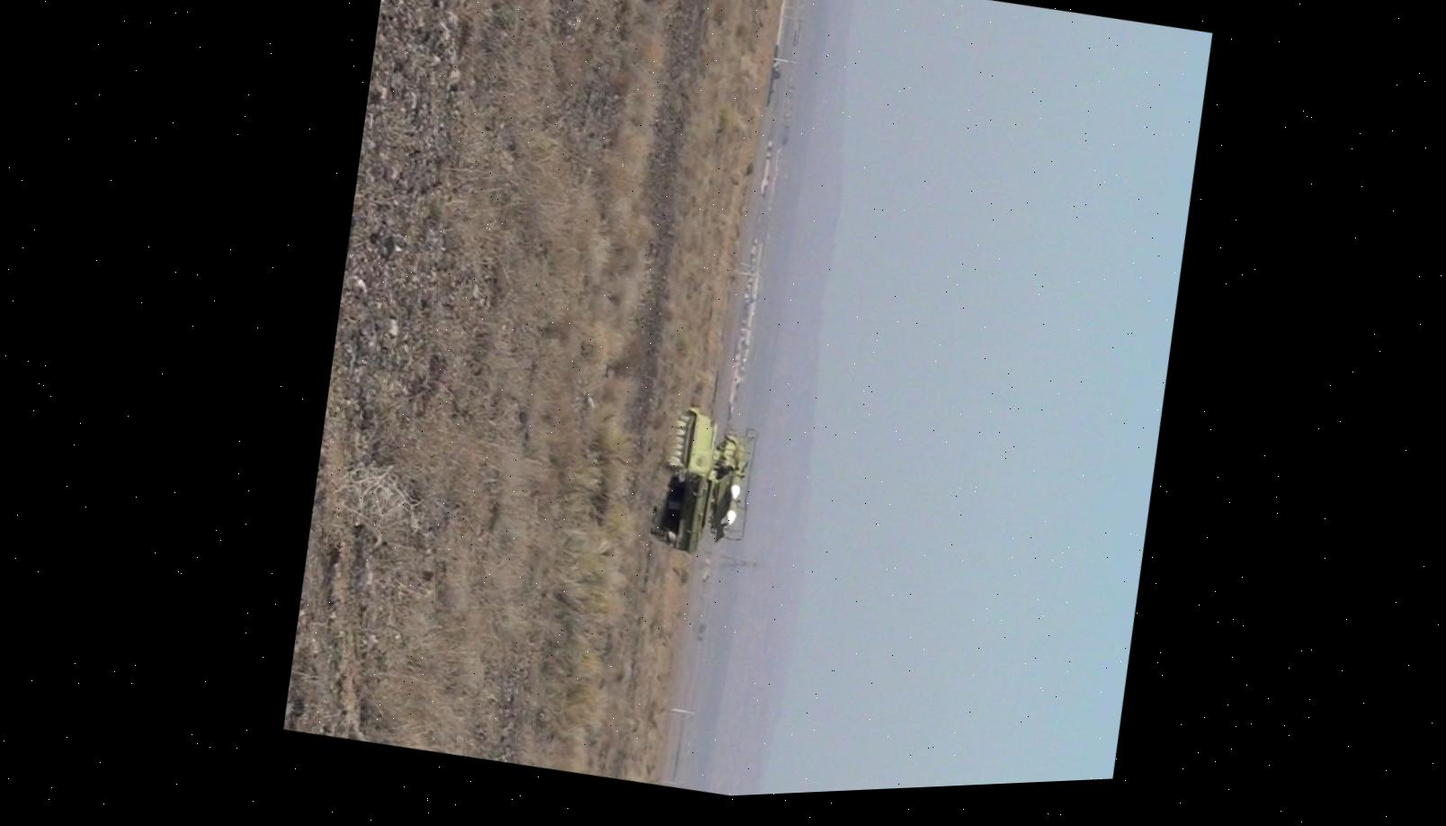armored_car: (639, 400, 772, 565)
